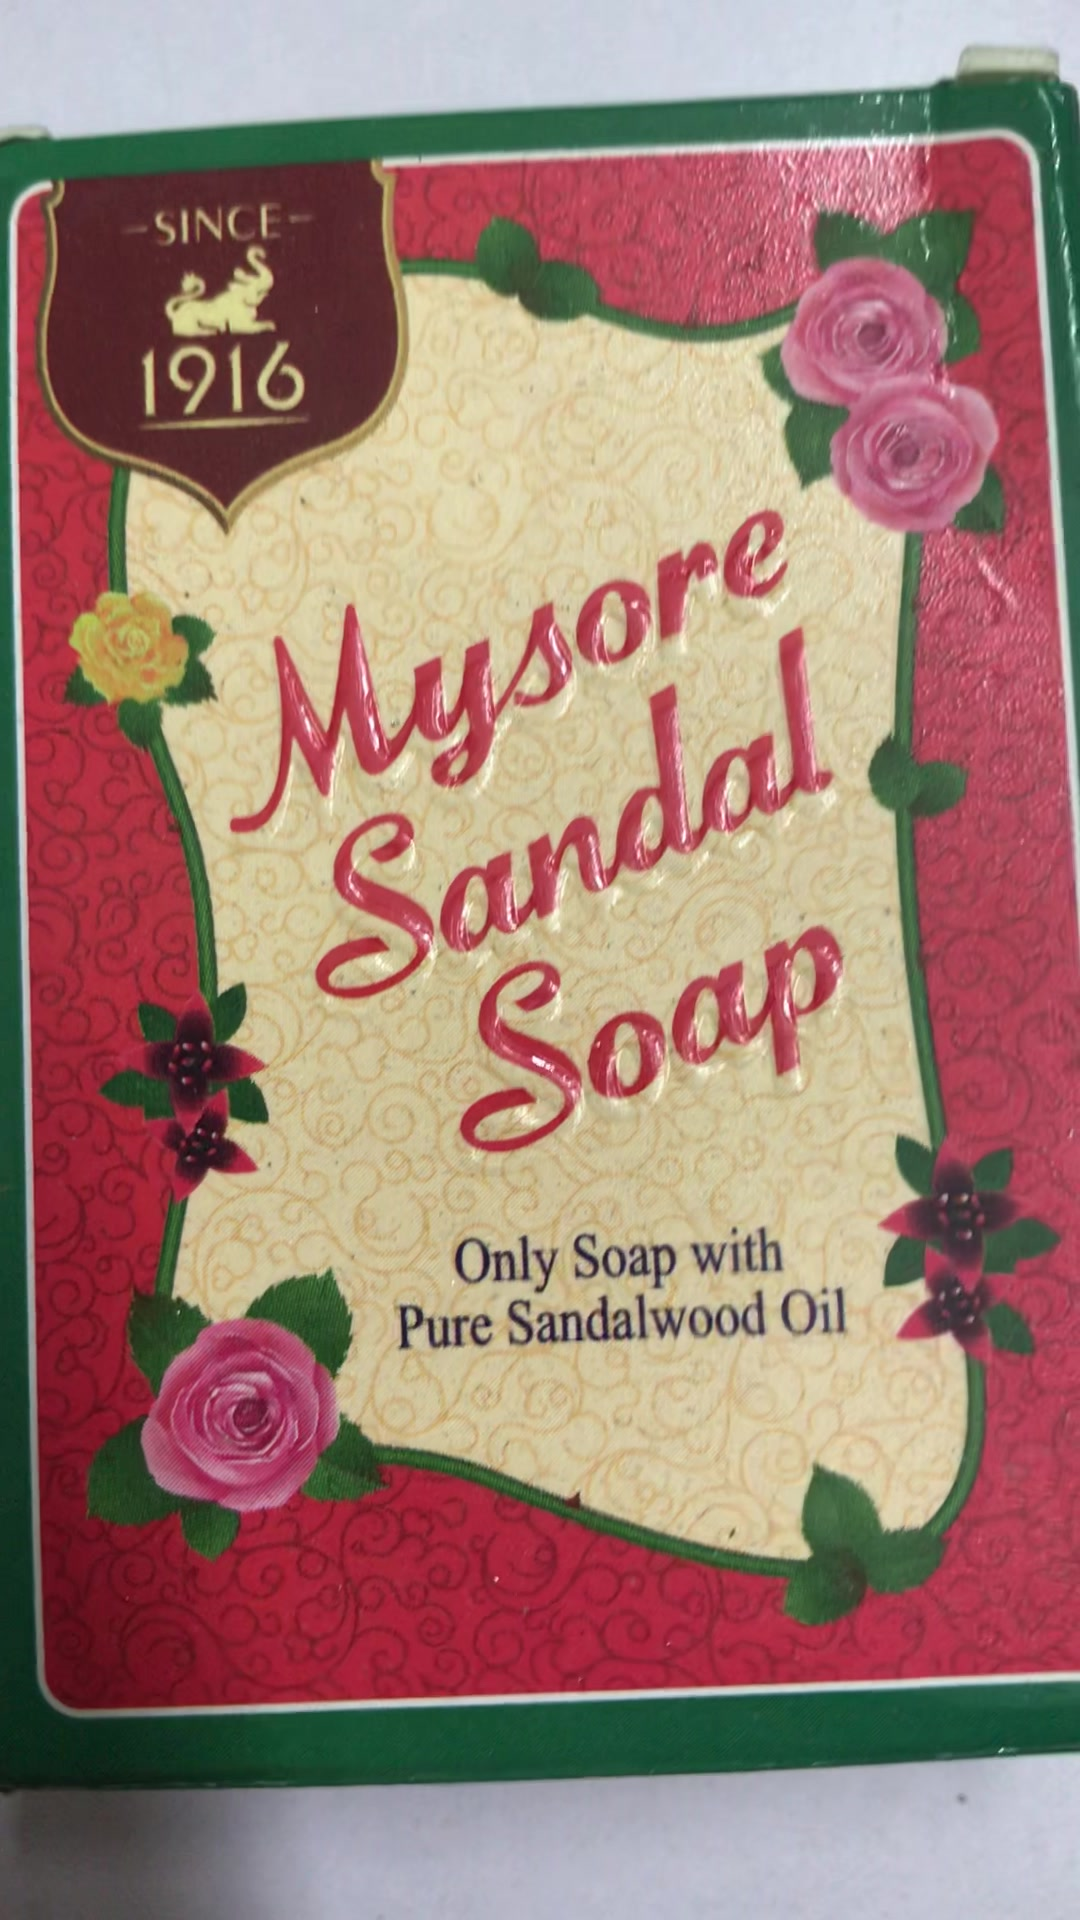mysore sandal soap: (1, 76, 1073, 1785)
